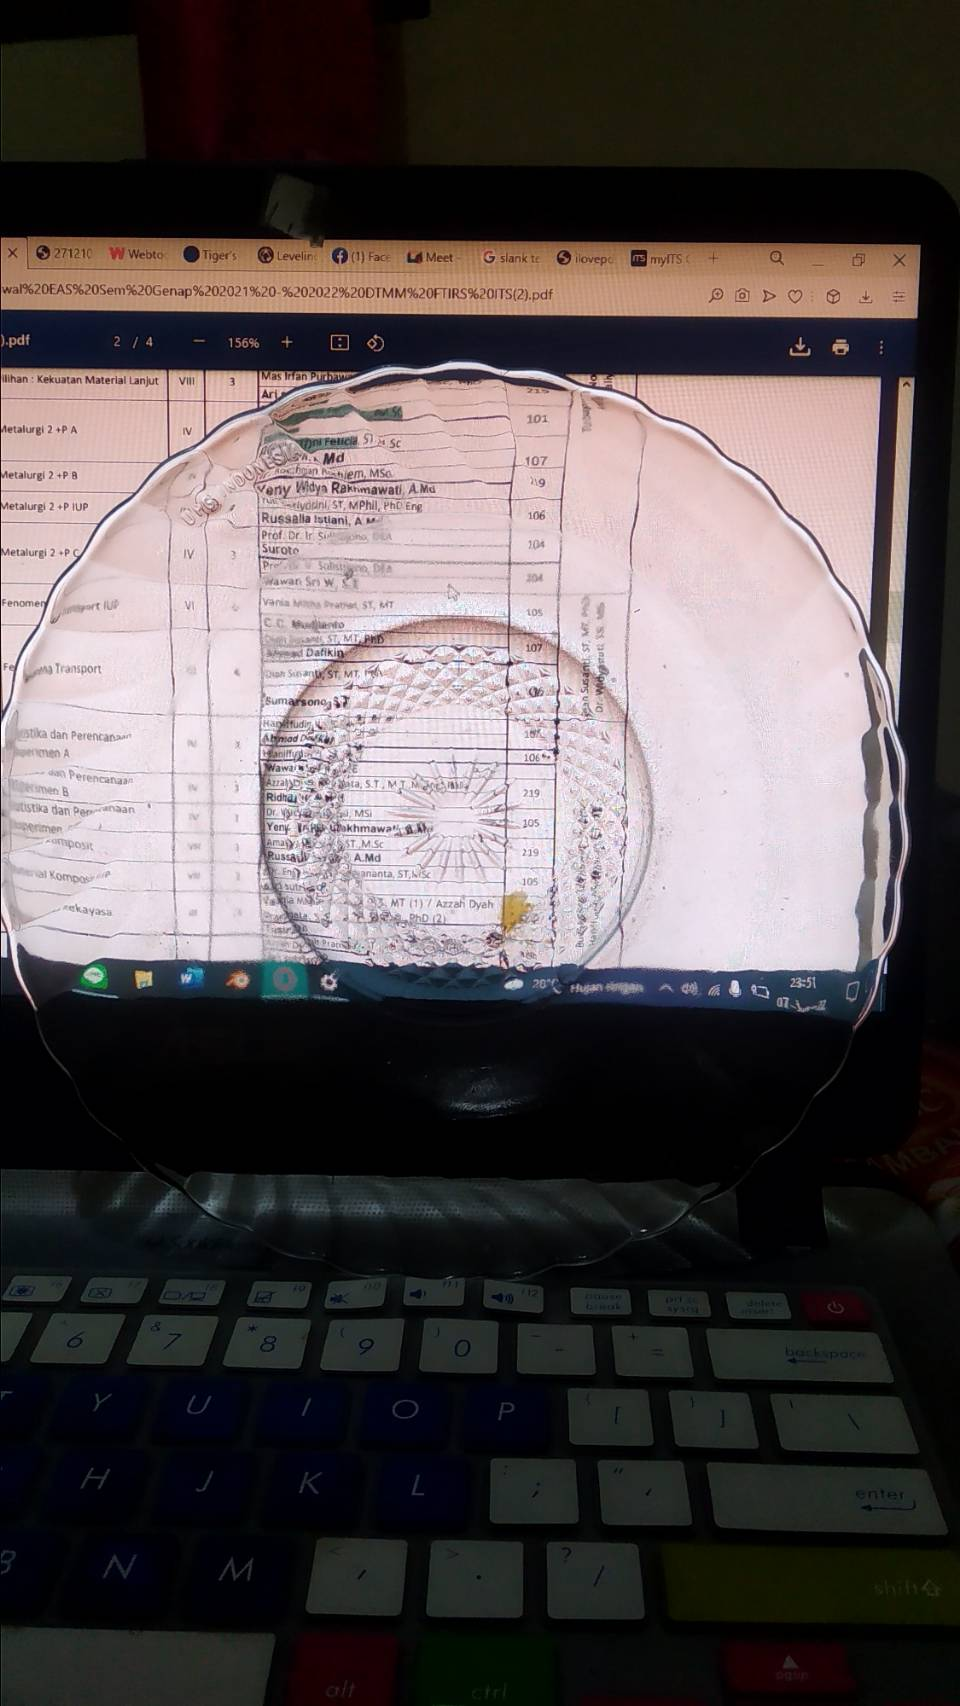piring: (4, 367, 913, 1317)
